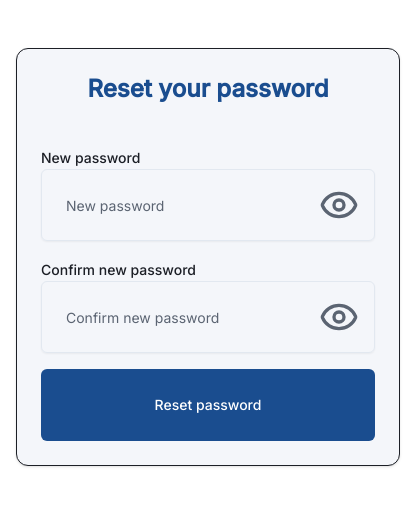
Test case: server WEAK_PASSWORD -> renders messageForCode(WEAK_PASSWORD)
Step 1. Type "validpassword123" into the password field with placeholder "New password" → (208, 205), box [41,169,375,241]
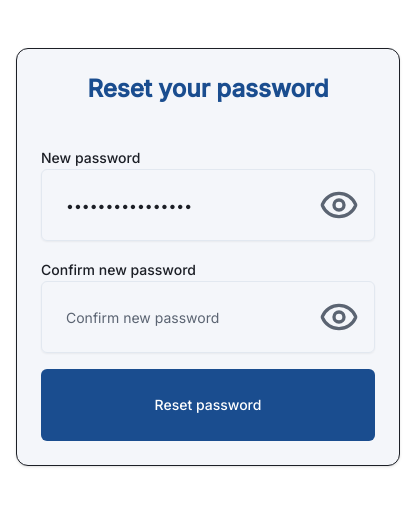
Step 2. Type "validpassword123" into the password field with placeholder "Confirm new password" → (208, 317), box [41,281,375,353]
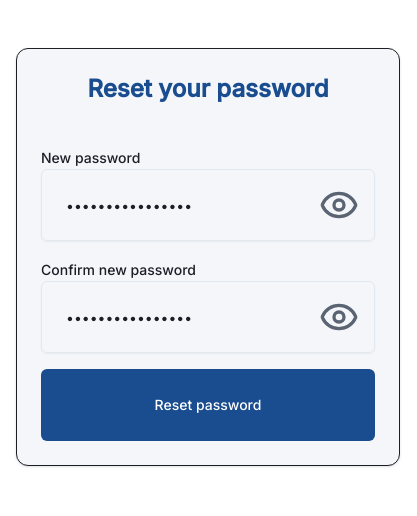
Step 3. Click the button "Reset password" → (208, 405), box [41,369,375,441]
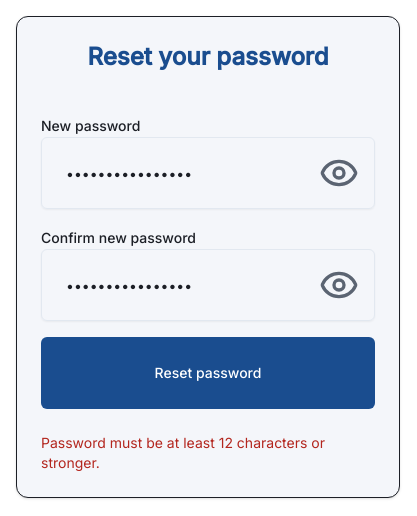
Result: the text "Password must be at least 12 characters or stronger." is shown at [41,433,375,473]
